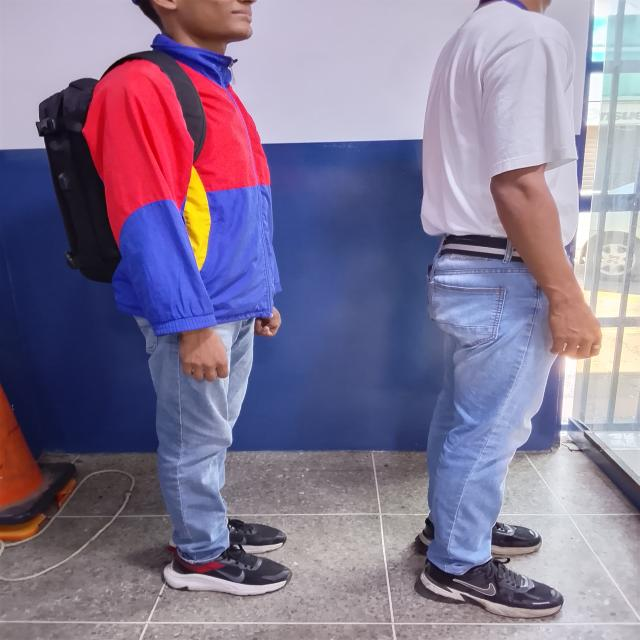chaqueta_unefa: (81, 33, 283, 336)
